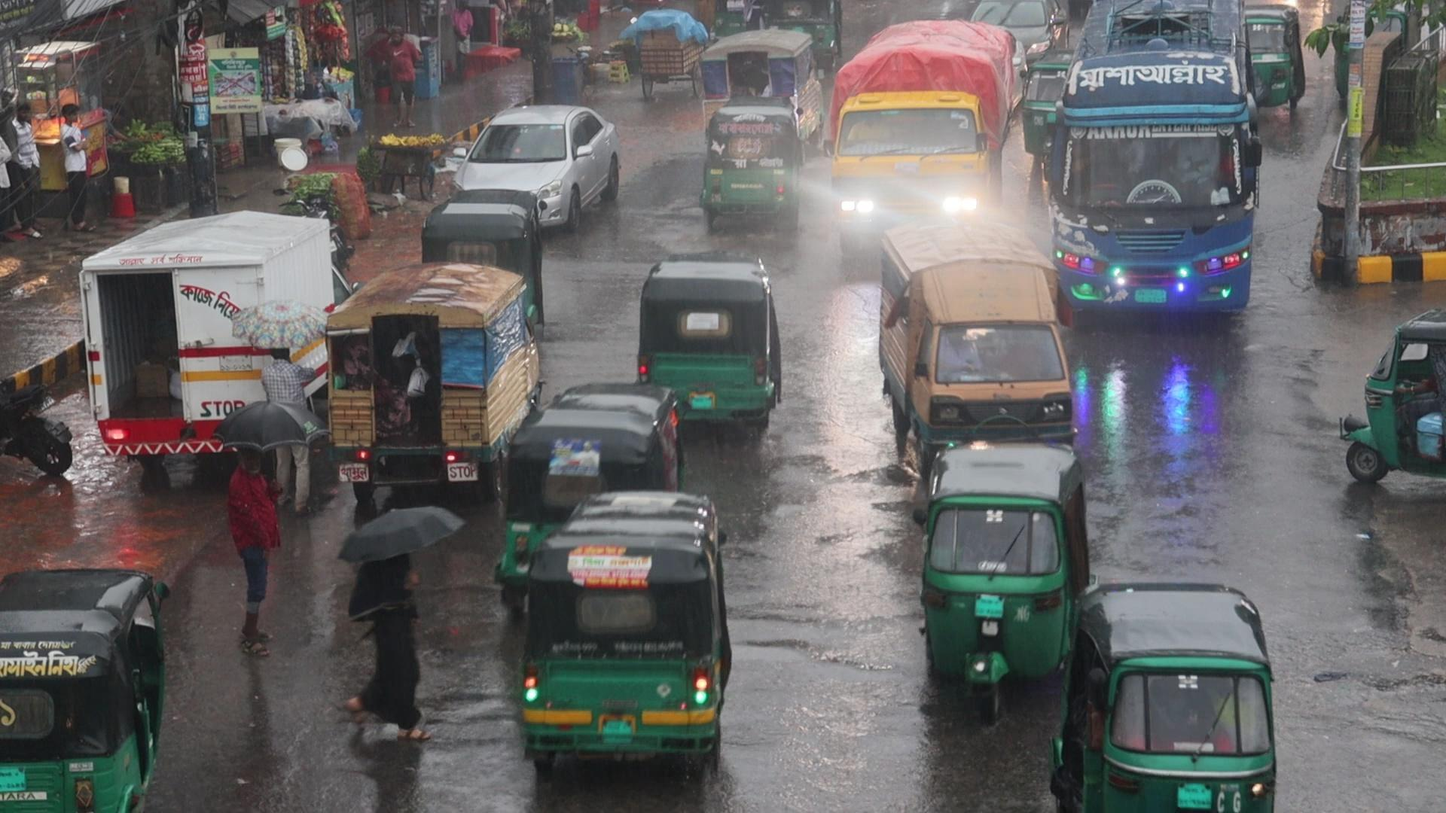Bus: (1048, 1, 1257, 319)
Truck: (324, 257, 539, 473), (876, 216, 1077, 445), (821, 20, 1016, 216)
